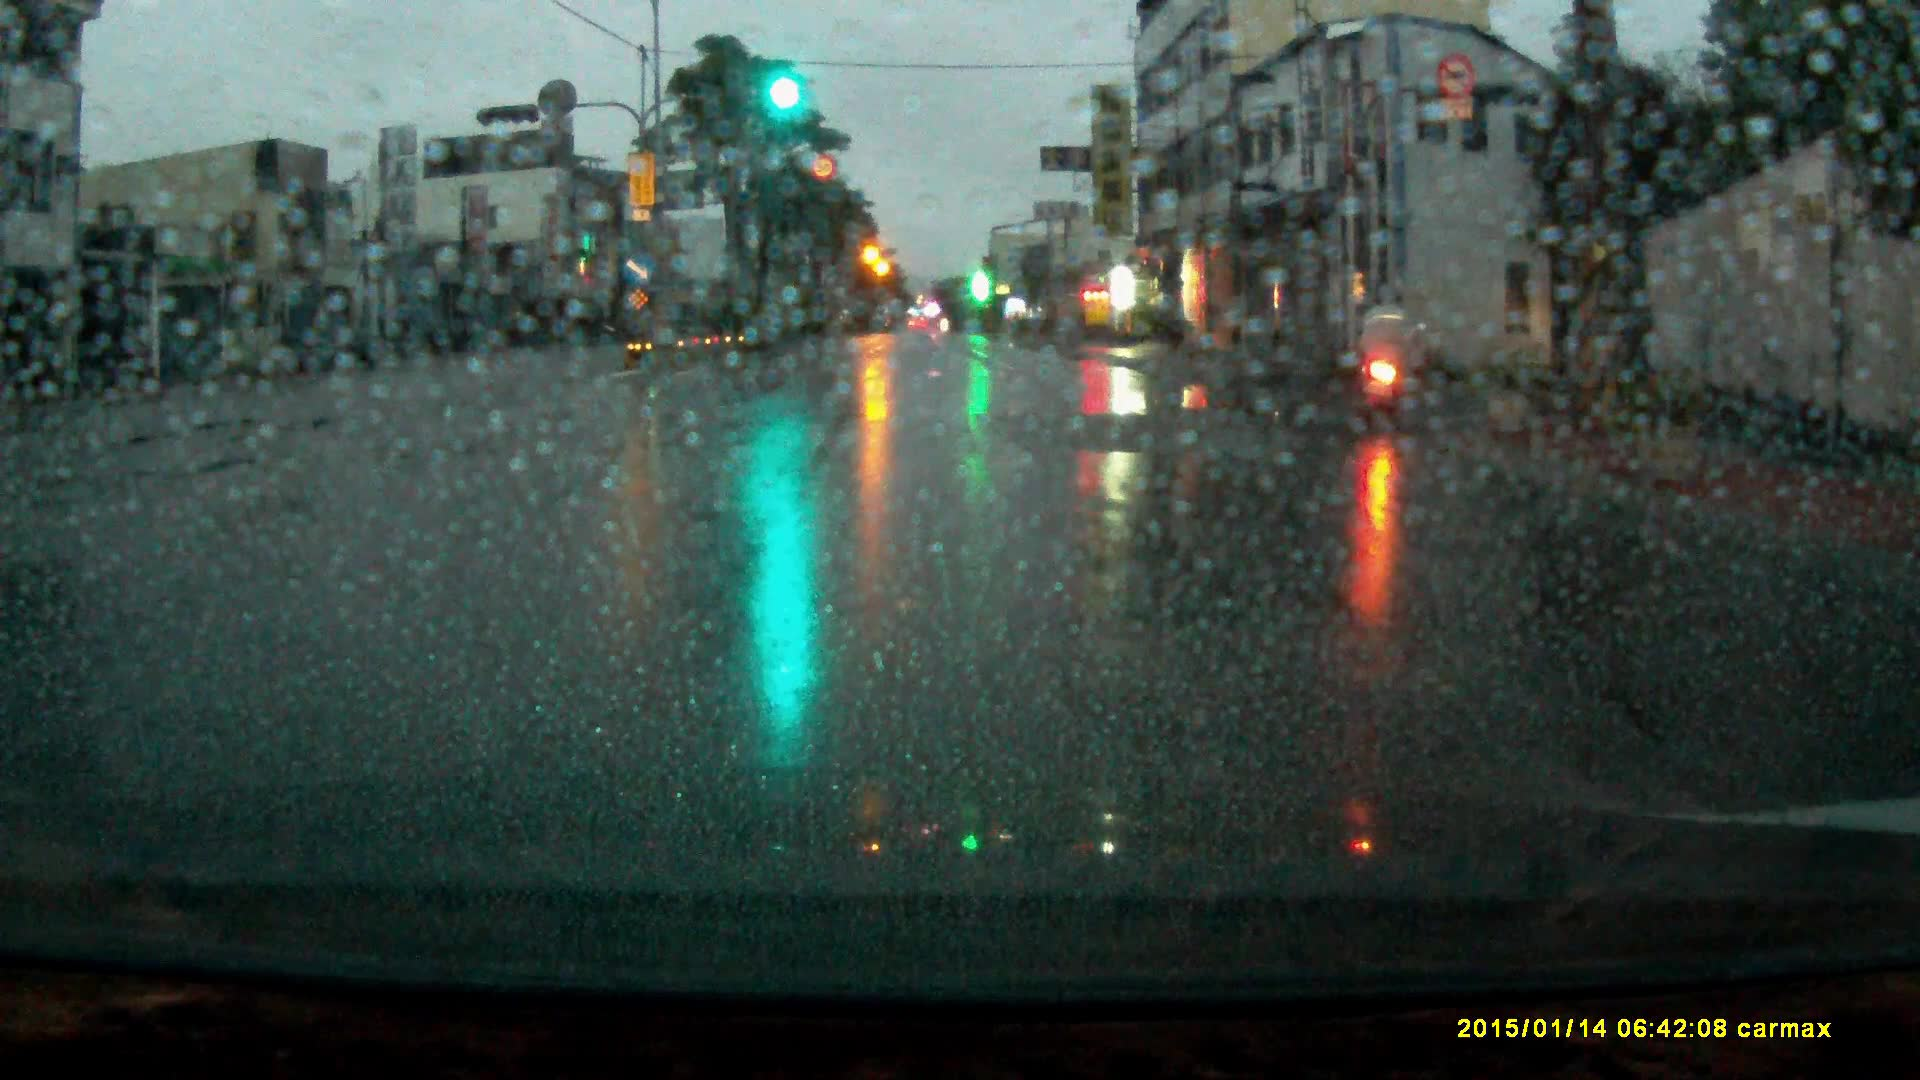rider: (1347, 287, 1434, 422)
